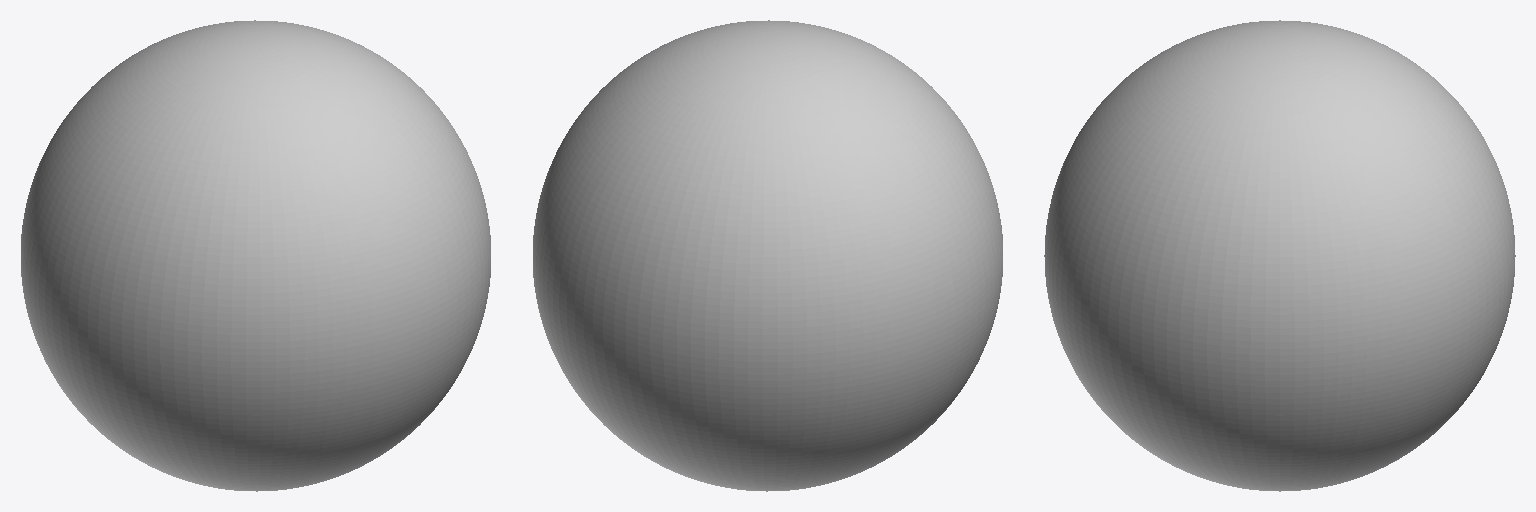
File: SphereTri.obj
3 renders of one model, left to right at view 1: azimuth 30°, elevation 25°; view 2: azimuth 150°, elevation 25°; view 3: azimuth 270°, elevation 25°, orthographic.
Parts seen in each view (by area): view 1: Sphere; view 2: Sphere; view 3: Sphere.
Boxes of the visible parts, box(x1,y1,x2,y2) form: Sphere: box(21, 20, 490, 491); Sphere: box(533, 20, 1002, 491); Sphere: box(1044, 20, 1515, 491).
Bounding box in the file's own units: 2 × 2 × 2.